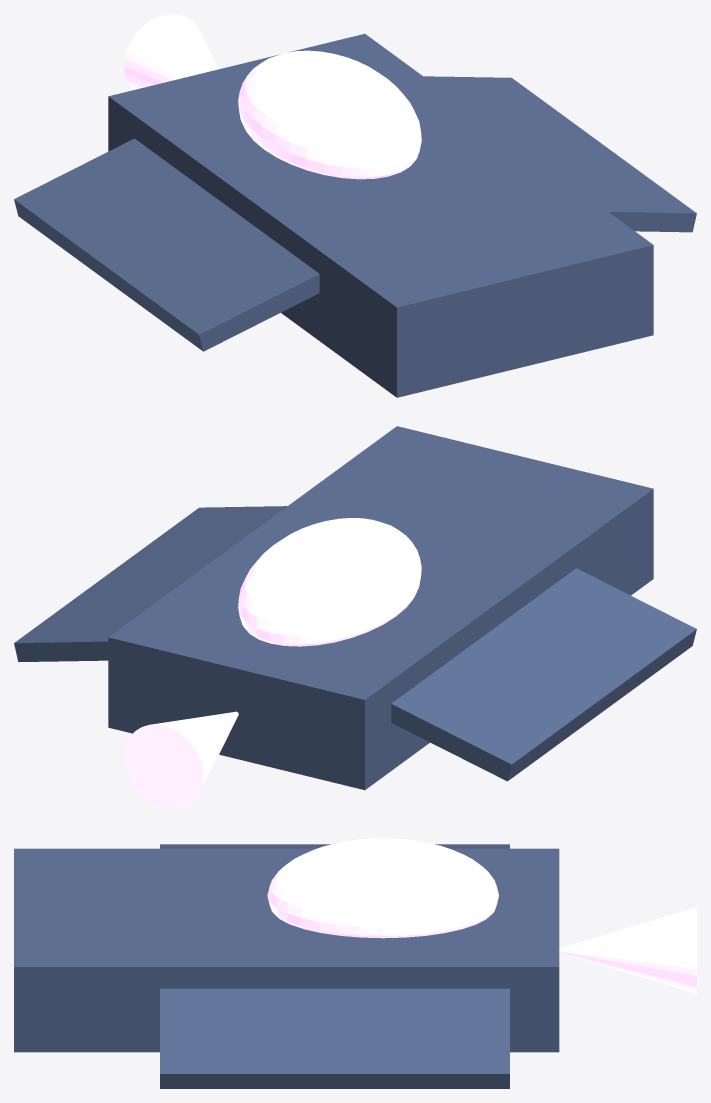
Rendered from striker_t1.glb.
3 views of the same model, one above another, from view 1: azimuth 30°, elevation 25°; view 2: azimuth 150°, elevation 25°; view 3: azimuth 270°, elevation 25° (orthographic). The views are drawn at different scales.
Parts seen in each view (by area): view 1: Cube, Cube.002, Sphere, Cube.001, Cone; view 2: Cube, Cube.002, Sphere, Cube.001, Cone; view 3: Cube, Cube.001, Sphere, Cone, Cube.002.
Boxes of the visible parts, <box> form: Cube: <box>108,33,653,397</box>; Cube.002: <box>14,138,319,351</box>; Sphere: <box>238,50,421,179</box>; Cube.001: <box>424,76,696,232</box>; Cone: <box>124,14,218,90</box>; Cube: <box>108,426,653,790</box>; Cube.002: <box>391,568,696,781</box>; Sphere: <box>238,518,421,646</box>; Cube.001: <box>14,506,287,662</box>; Cone: <box>124,711,238,809</box>; Cube: <box>14,848,559,1052</box>; Cube.001: <box>160,988,509,1088</box>; Sphere: <box>267,838,498,938</box>; Cone: <box>559,907,696,993</box>; Cube.002: <box>160,844,509,848</box>.
Size of the model in its own units: 2.25 by 0.665 by 2.83.
